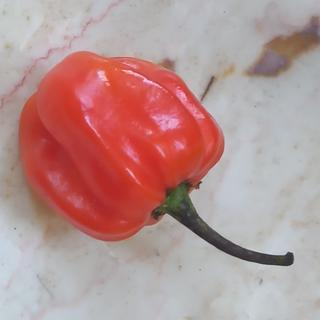Grade-B: (14, 37, 228, 247)
